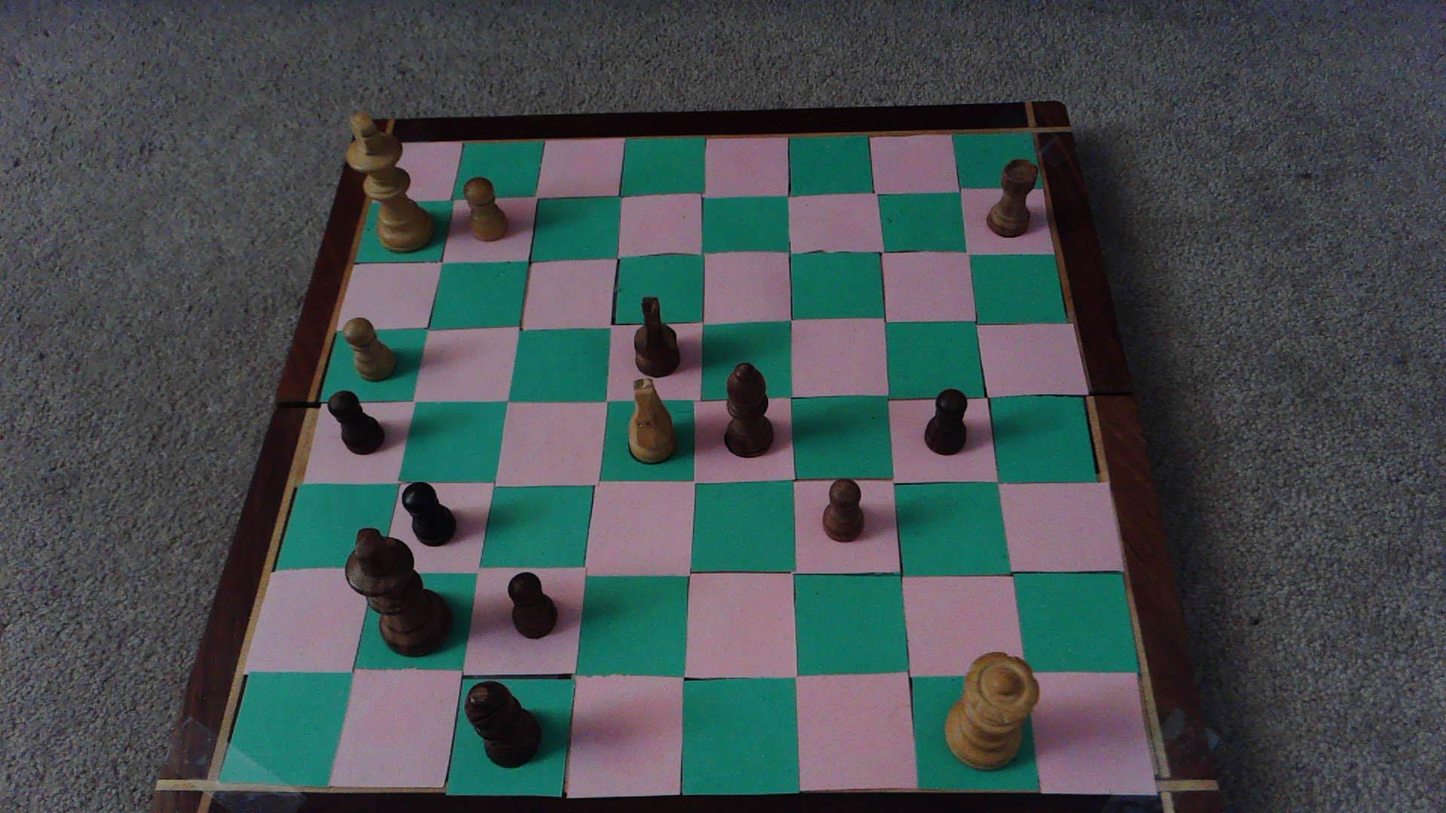dark_piece: (346, 528, 450, 656), (465, 681, 540, 767), (725, 363, 773, 455), (986, 159, 1038, 237), (633, 296, 682, 376), (328, 391, 383, 454), (402, 482, 455, 546), (508, 572, 557, 638), (925, 388, 966, 454), (823, 479, 863, 541)
white_piece: (346, 113, 434, 253), (946, 652, 1039, 769), (626, 378, 675, 466), (343, 317, 395, 381), (462, 176, 508, 243)
